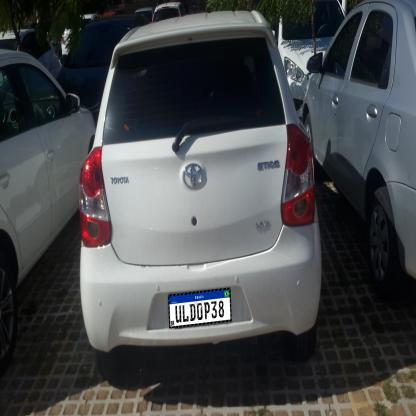PlacaM: (168, 288, 232, 328)
